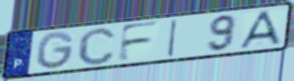9: (205, 13, 238, 53)
A: (237, 9, 284, 51)
C: (76, 25, 118, 66)
F: (116, 20, 162, 64)
G: (36, 30, 76, 71)
I: (166, 18, 180, 59)
